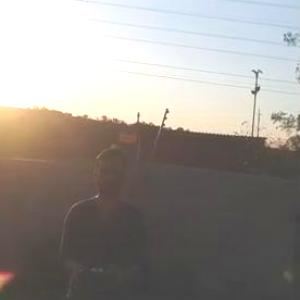follow: (47, 140, 151, 299)
